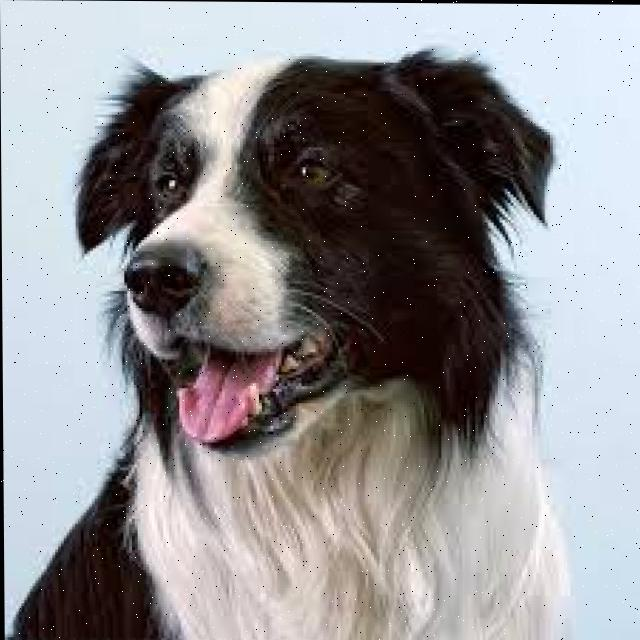BORDER_COLLIE: (3, 17, 618, 640)
